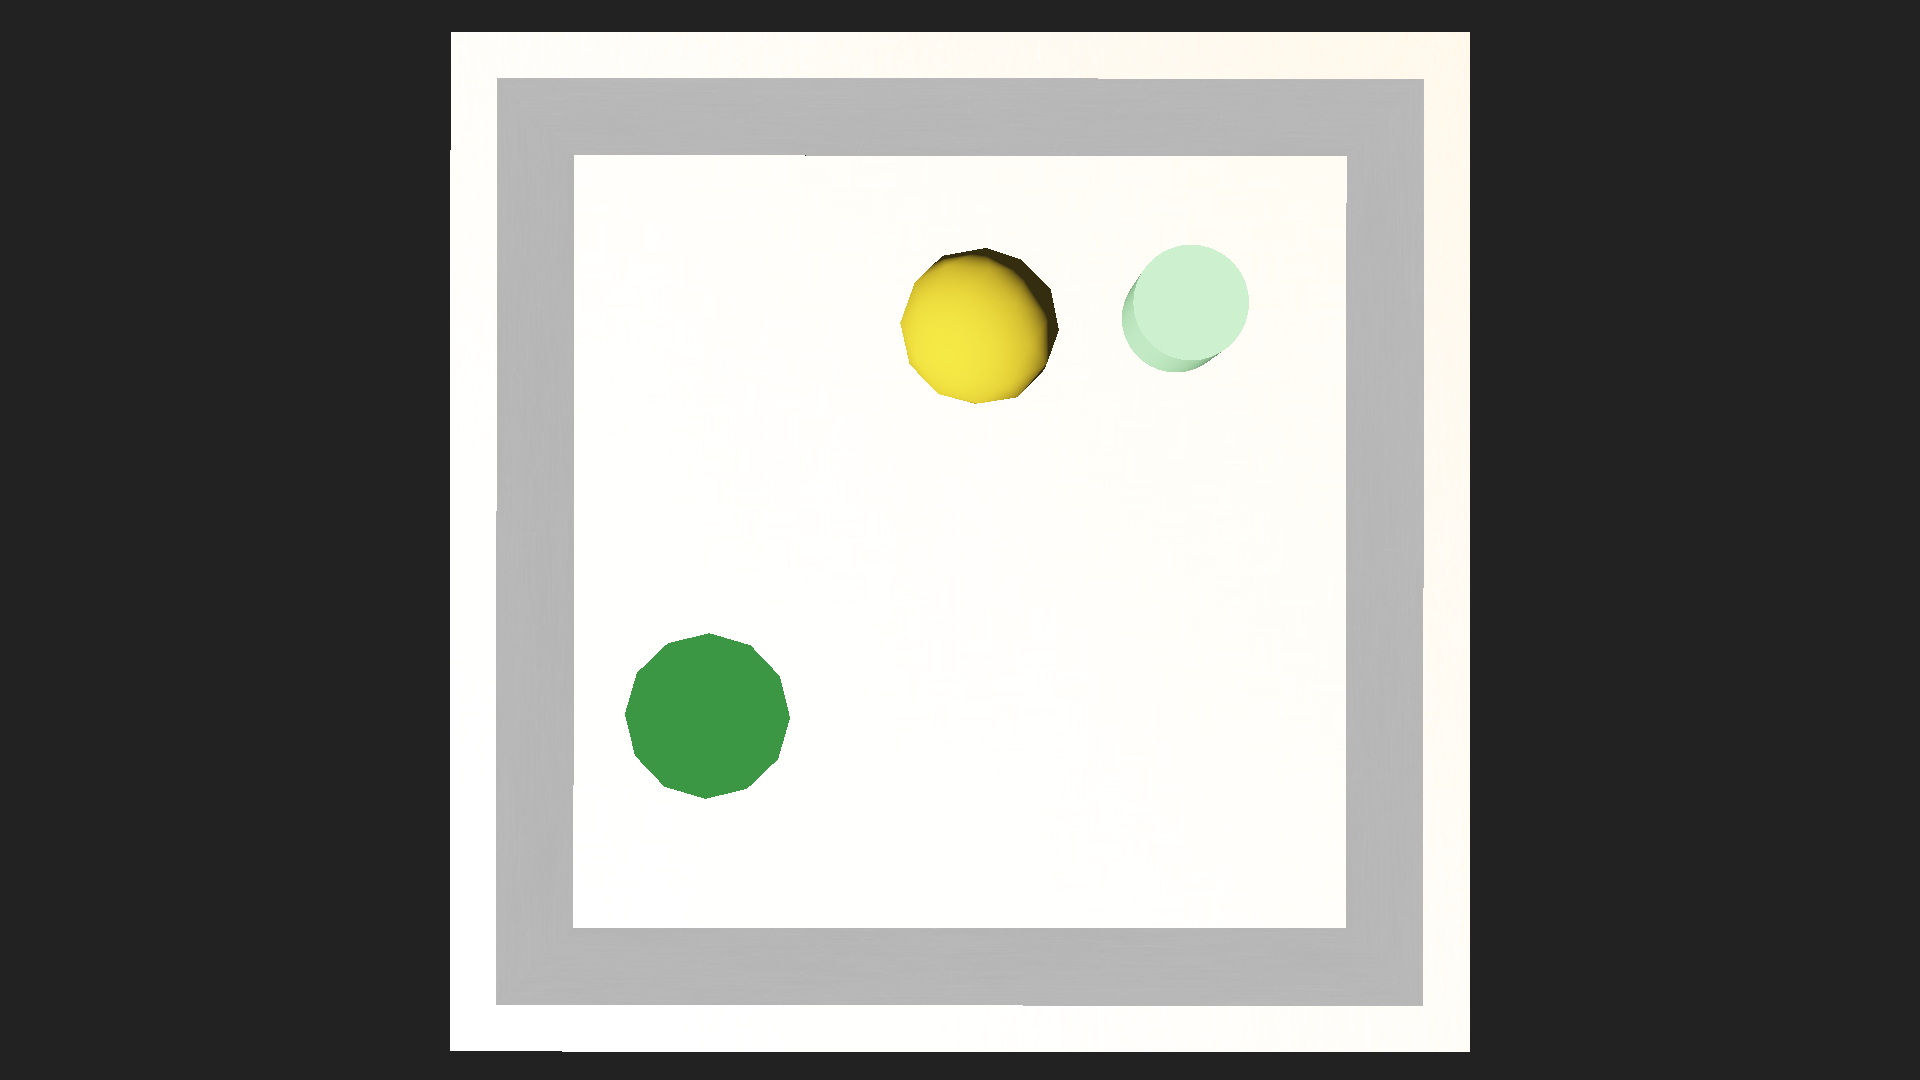cone: (1121, 244, 1249, 372)
cylinder: (630, 632, 798, 793)
sphere: (899, 247, 1059, 406)
